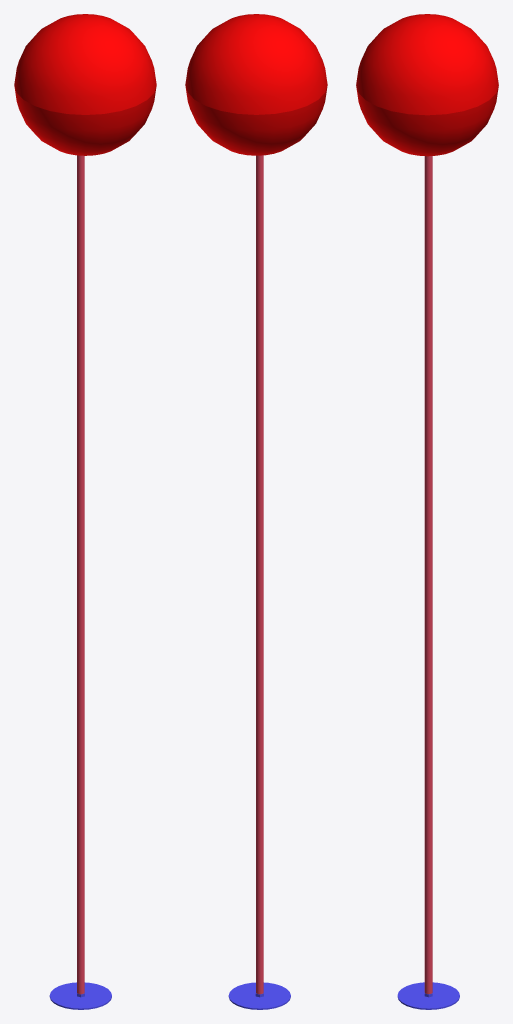
File: buoy_red.dae
3 views of the same model, side by side, from view 1: azimuth 30°, elevation 25°; view 2: azimuth 150°, elevation 25°; view 3: azimuth 270°, elevation 25° (orthographic).
Parts seen in each view (by area): view 1: instance_4, instance_3, instance_2_001; view 2: instance_4, instance_3, instance_2_001; view 3: instance_4, instance_3, instance_2_001.
Boxes of the visible parts, x1,y1,x2,y2 form: instance_4: (14, 14, 156, 155); instance_3: (77, 155, 84, 994); instance_2_001: (49, 982, 111, 1009); instance_4: (185, 14, 327, 155); instance_3: (256, 155, 263, 994); instance_2_001: (228, 982, 290, 1009); instance_4: (356, 14, 498, 156); instance_3: (424, 156, 432, 994); instance_2_001: (397, 982, 459, 1009).
Bounding box in the file's own units: 0.4572 × 0.4572 × 3.46.
